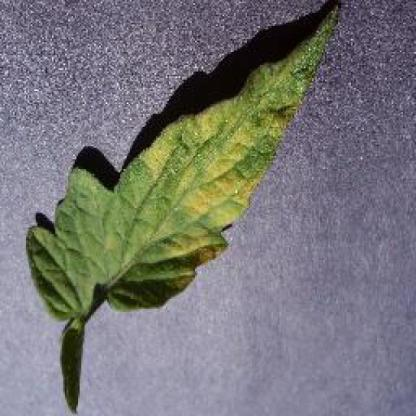Tomato_Leaf_Mold: (29, 5, 342, 317)
